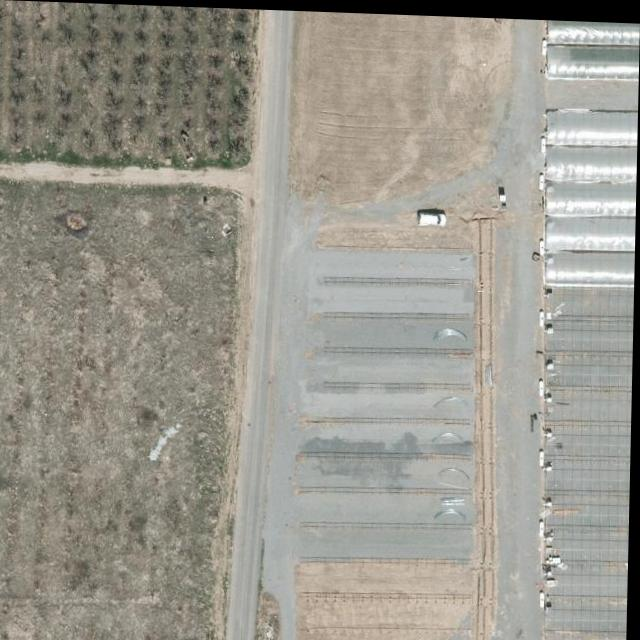vehicle: (419, 209, 447, 225)
